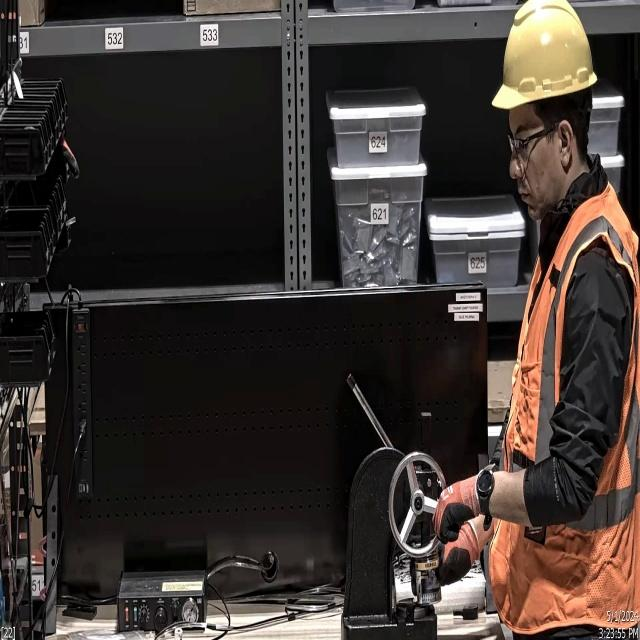gloves: (414, 516, 478, 600), (435, 467, 490, 548)
